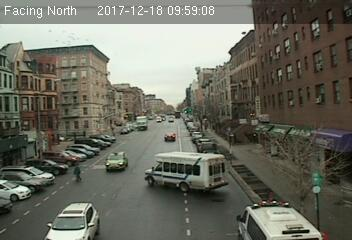car: (44, 199, 99, 240), (104, 151, 129, 171), (164, 132, 177, 142)
